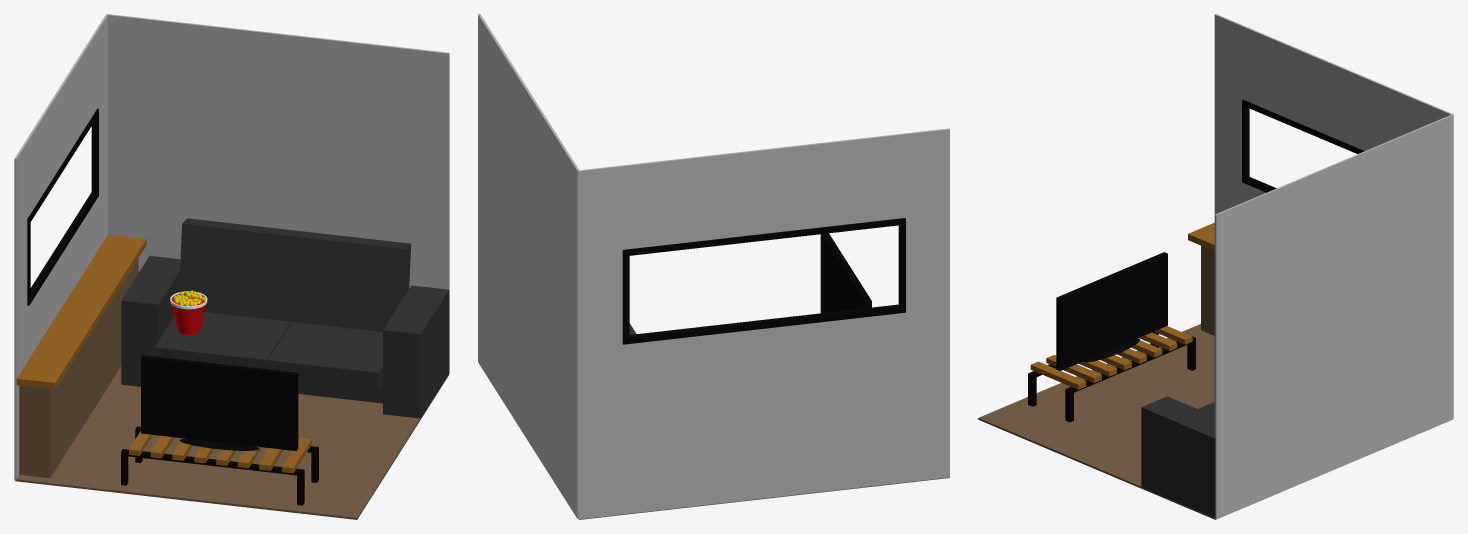
Rendered from Comfy.gltf.
3 views of the same model, side by side, from view 1: azimuth 30°, elevation 25°; view 2: azimuth 150°, elevation 25°; view 3: azimuth 270°, elevation 25° (orthographic). The views are drawn at different scales.
Visible parts, largest first — view 1: Cube.010, Cube, Cube.003, Cube.001, Cube.006, Cube.005, Cube.004, Cube.008, Cube.009, Plane, Cube.007, Cylinder (+1 smaller); view 2: Cube.001, Cube.010, Cube.009, Cube.006; view 3: Cube.010, Cube.001, Cube, Cube.006, Cube.003, Plane, Cube.009, Cube.007.
Part boxes in pixels (x1,y1,x2,y2): Cube.010: (107,14,449,374); Cube: (15,258,448,519); Cube.003: (121,256,449,418); Cube.001: (14,14,107,480); Cube.006: (141,355,298,450); Cube.005: (290,231,411,331); Cube.004: (179,218,298,321); Cube.008: (16,234,146,389); Cube.009: (27,108,98,305); Plane: (129,431,311,473); Cube.007: (121,426,318,505); Cylinder: (171,293,205,334); Cube.001: (578,128,949,519); Cube.010: (478,14,578,518); Cube.009: (622,218,905,344); Cube.006: (820,233,871,313); Cube.010: (1214,114,1453,519); Cube.001: (1214,14,1453,214); Cube: (978,245,1446,519); Cube.006: (1056,252,1167,370); Cube.003: (1141,396,1215,517); Plane: (1030,326,1192,389); Cube.009: (1242,99,1364,192); Cube.007: (1028,331,1195,422).
Bounding box in the file's own units: 45.4 × 32.1 × 45.3.
